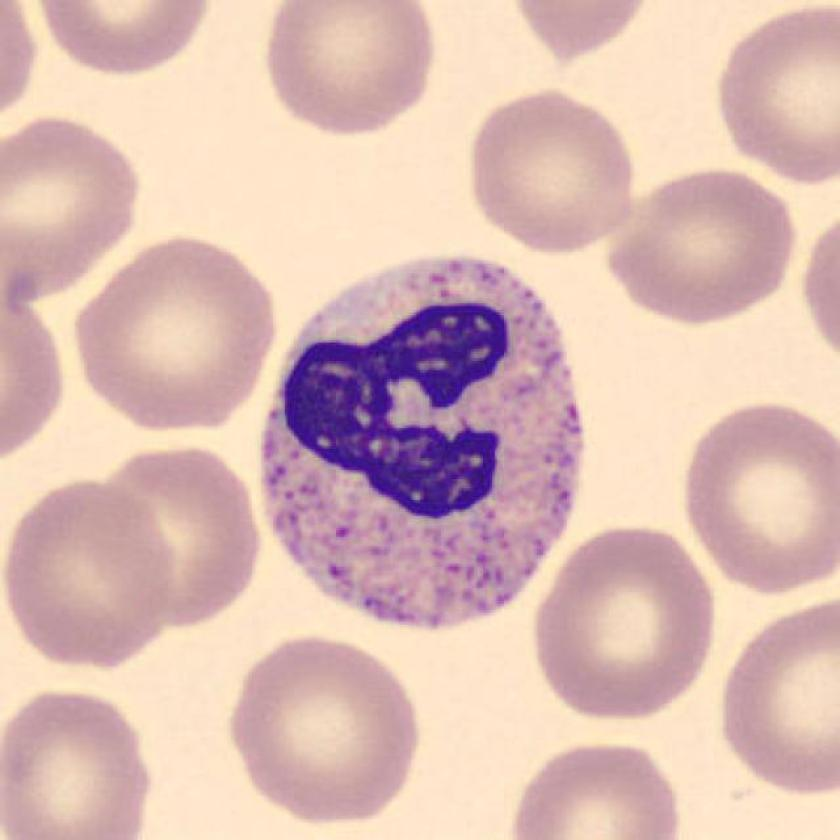neutrophil: (260, 256, 585, 625)
